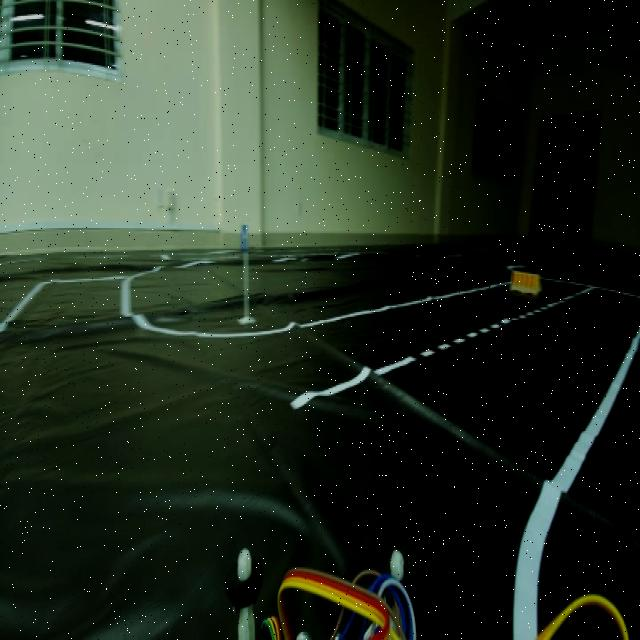onewayroad: (237, 221, 248, 254)
